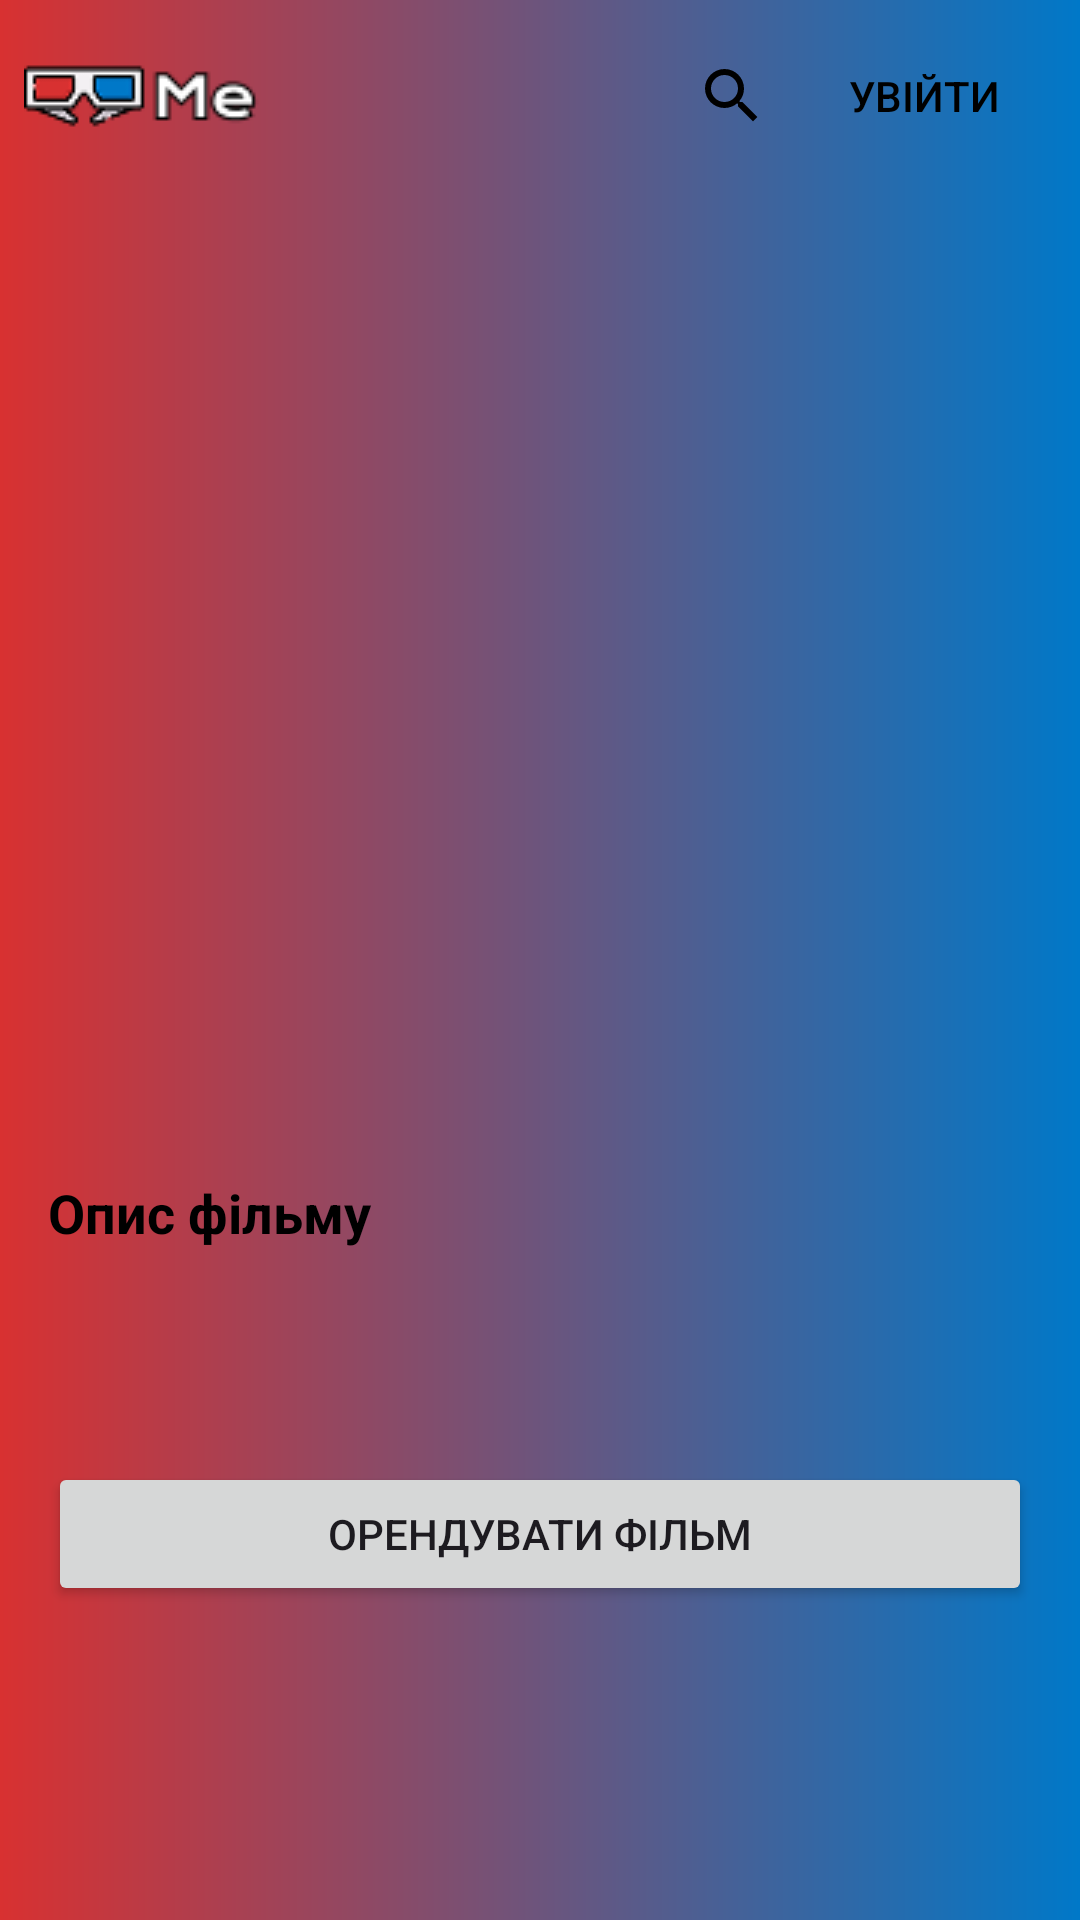

Icon click points for this 1080x1920 phone screenshot, format [x,y]:
Іконка пошуку: [731,95]
